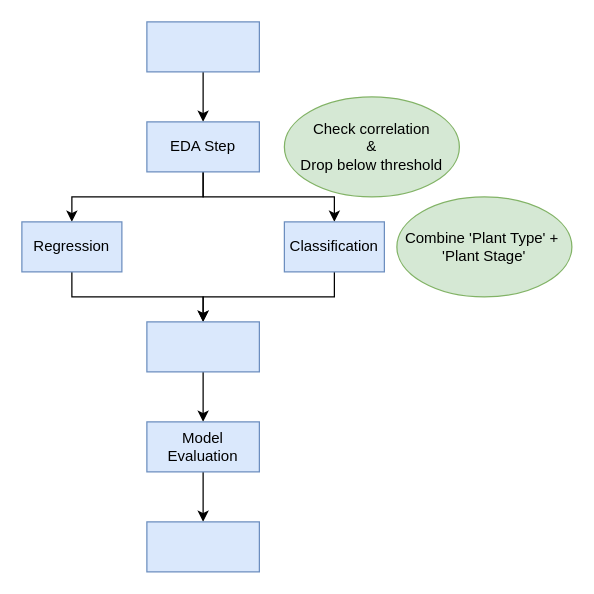
The diagram is 594 pixels wide and 594 high, and some of its shapes have lost their labels. The shapes that lost their labels are listed below. From the top down, each one's box as (x1, y1, x2, y2) in pixels, then its label:
(146, 21, 259, 72): Start
(146, 321, 259, 372): Best model parameters
(146, 521, 259, 572): End
